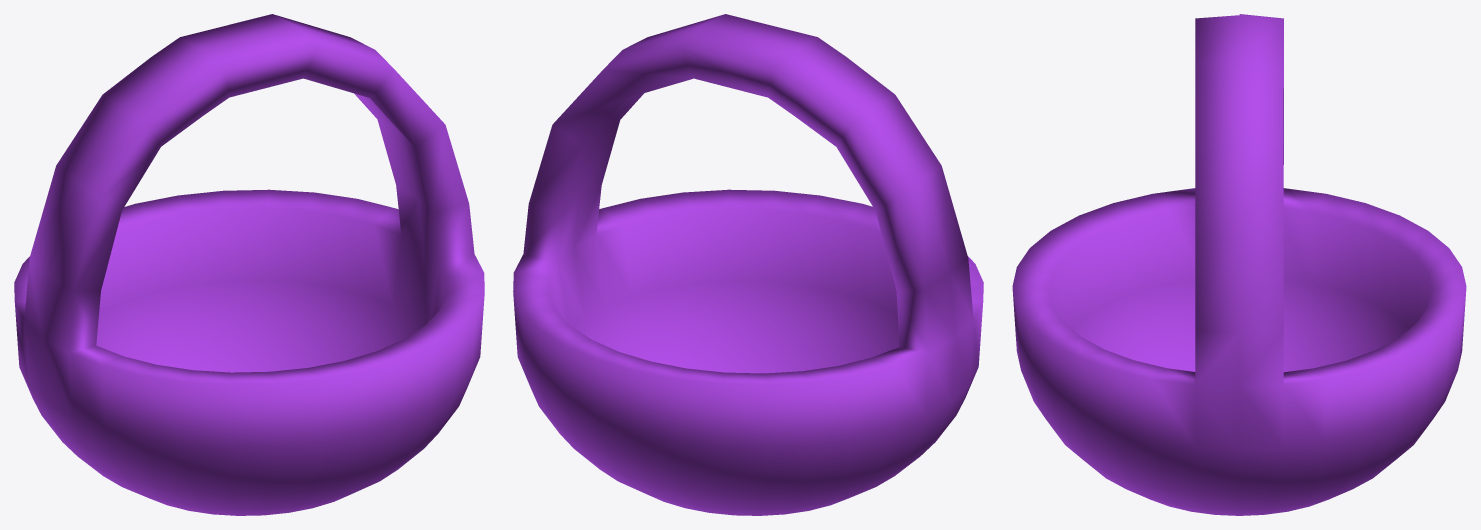
Rendered from basket.gltf.
3 renders of one model, left to right at view 1: azimuth 30°, elevation 25°; view 2: azimuth 150°, elevation 25°; view 3: azimuth 270°, elevation 25°, orthographic.
Parts seen in each view (by area): view 1: Sphere; view 2: Sphere; view 3: Sphere.
Boxes of the visible parts, <box> form: Sphere: <box>14,14,484,515</box>; Sphere: <box>513,14,983,515</box>; Sphere: <box>1012,14,1466,515</box>.
Size of the model in its own units: 2.52 by 2.64 by 2.41.
